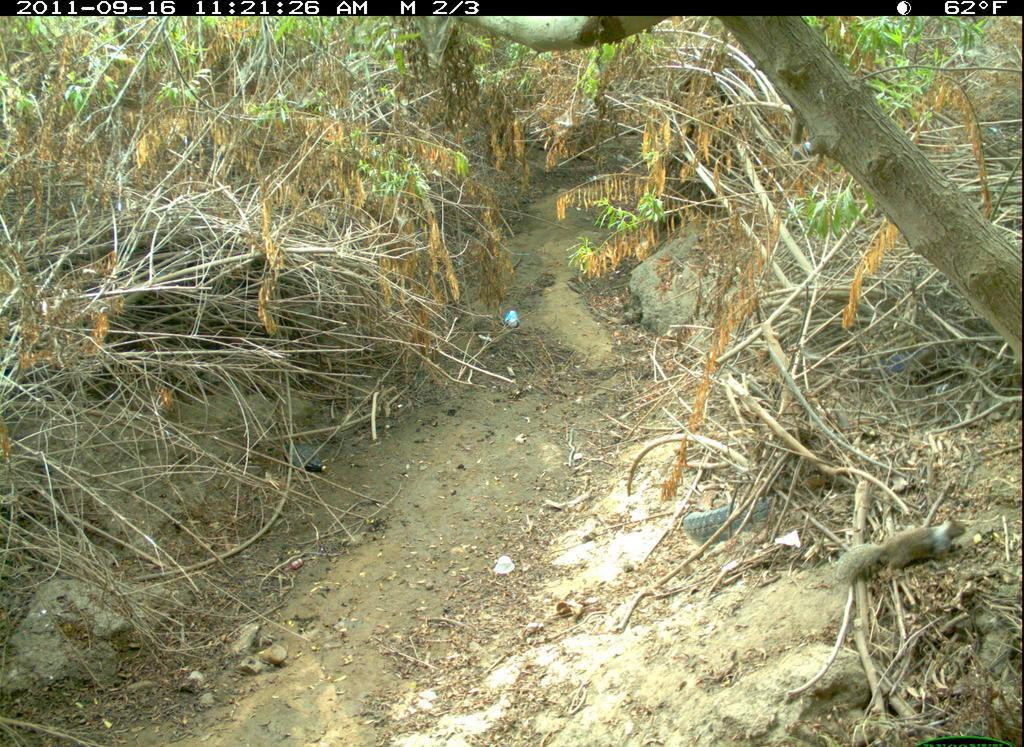squirrel: (825, 495, 972, 596)
